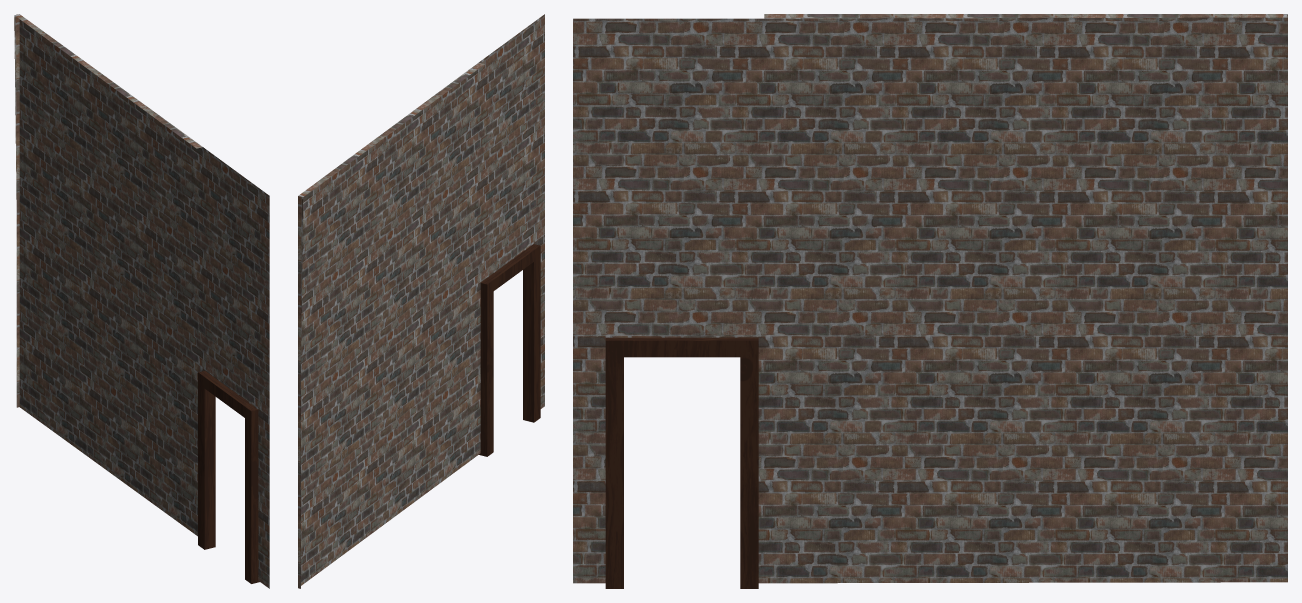
The model's file is mdl_brush_hubbrick.gltf.
3 renders of one model, left to right at view 1: azimuth 30°, elevation 25°; view 2: azimuth 150°, elevation 25°; view 3: azimuth 270°, elevation 25°, orthographic. The views are drawn at different scales.
Parts seen in each view (by area): view 1: Cube; view 2: Cube; view 3: Cube.
Boxes of the visible parts, x1,y1,x2,y2 form: Cube: [14, 14, 269, 588]; Cube: [298, 14, 544, 588]; Cube: [573, 14, 1287, 588].
Bounding box in the file's own units: 0.3099 × 10.4 × 11.88.
2 materials, 2 textured.
